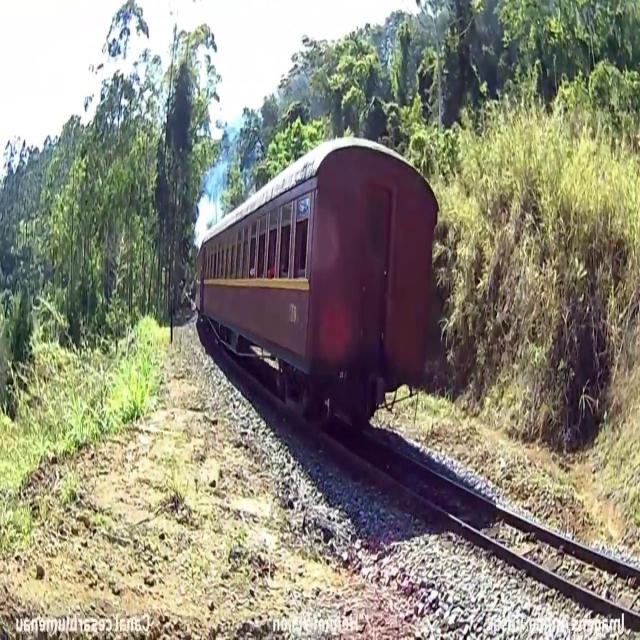Smoke: (192, 172, 222, 246)
